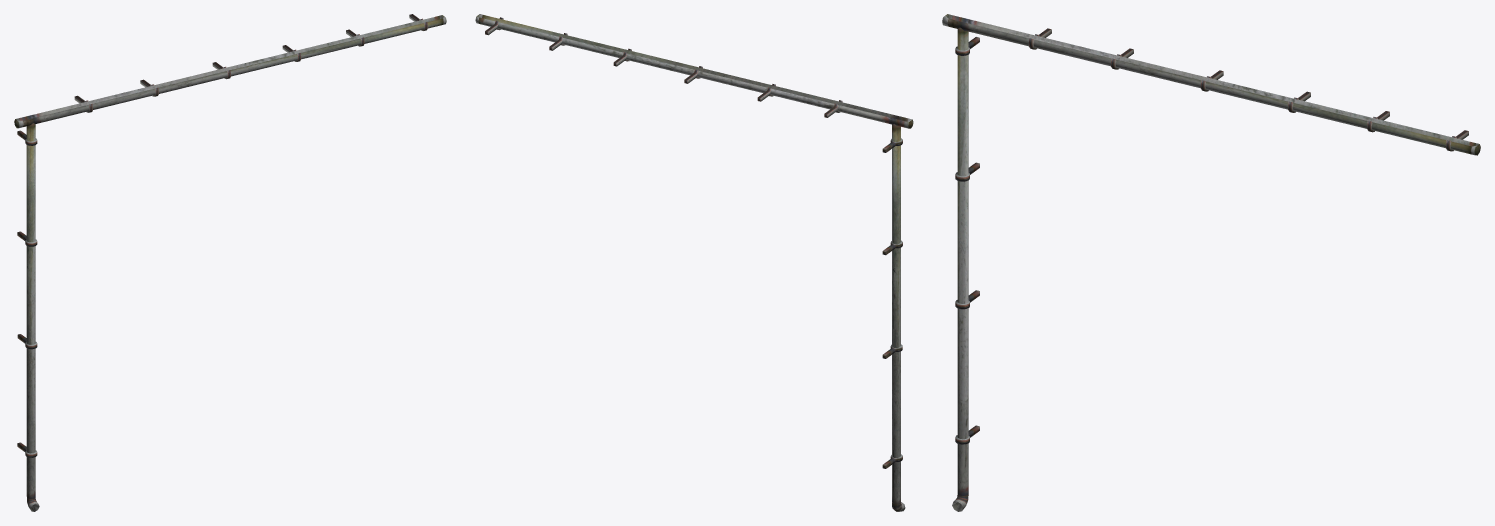
File: raingutters.fbx
The picture shows the model from 3 angles, left to right: view 1: azimuth 30°, elevation 25°; view 2: azimuth 150°, elevation 25°; view 3: azimuth 330°, elevation 25°; orthographic projection. The views are drawn at different scales.
Visible parts, largest first — view 1: NoName0, Regroup0; view 2: NoName0, Regroup0; view 3: NoName0, Regroup0.
Boxes of the visible parts, x1=… form: NoName0: x1=14, y1=15, x2=446, y2=511; Regroup0: x1=17, y1=14, x2=427, y2=457; NoName0: x1=475, y1=14, x2=913, y2=511; Regroup0: x1=485, y1=17, x2=902, y2=468; NoName0: x1=942, y1=14, x2=1480, y2=511; Regroup0: x1=955, y1=28, x2=1468, y2=444.
Size of the model in its own units: 15.97 by 13.95 by 1.08.
